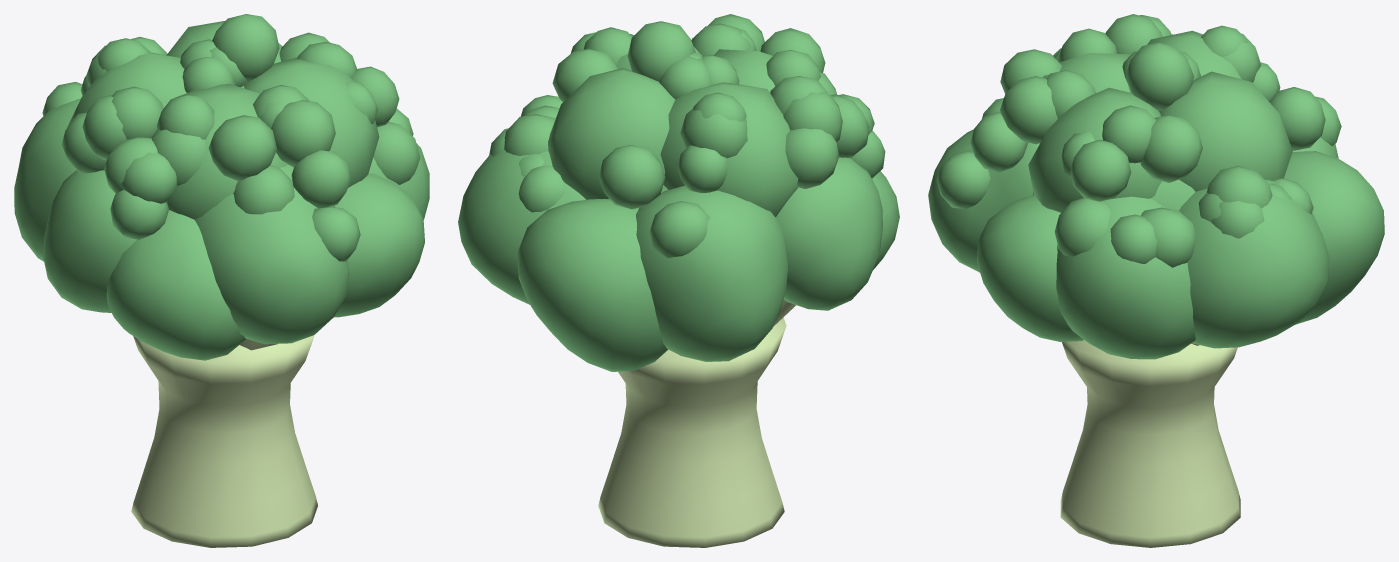
The model's file is VeggieBroccoli.glb.
The picture shows the model from 3 angles, left to right: view 1: azimuth 30°, elevation 25°; view 2: azimuth 150°, elevation 25°; view 3: azimuth 270°, elevation 25°; orthographic projection.
Parts seen in each view (by area): view 1: BroccoliCrown, BroccoliStalk; view 2: BroccoliCrown, BroccoliStalk; view 3: BroccoliCrown, BroccoliStalk.
Boxes of the visible parts, <box> form: BroccoliCrown: <box>14,14,429,360</box>; BroccoliStalk: <box>131,335,317,547</box>; BroccoliCrown: <box>458,14,899,371</box>; BroccoliStalk: <box>598,299,795,547</box>; BroccoliCrown: <box>928,14,1384,359</box>; BroccoliStalk: <box>1060,340,1240,547</box>.
Size of the model in its own units: 2 by 2.58 by 2.23.
